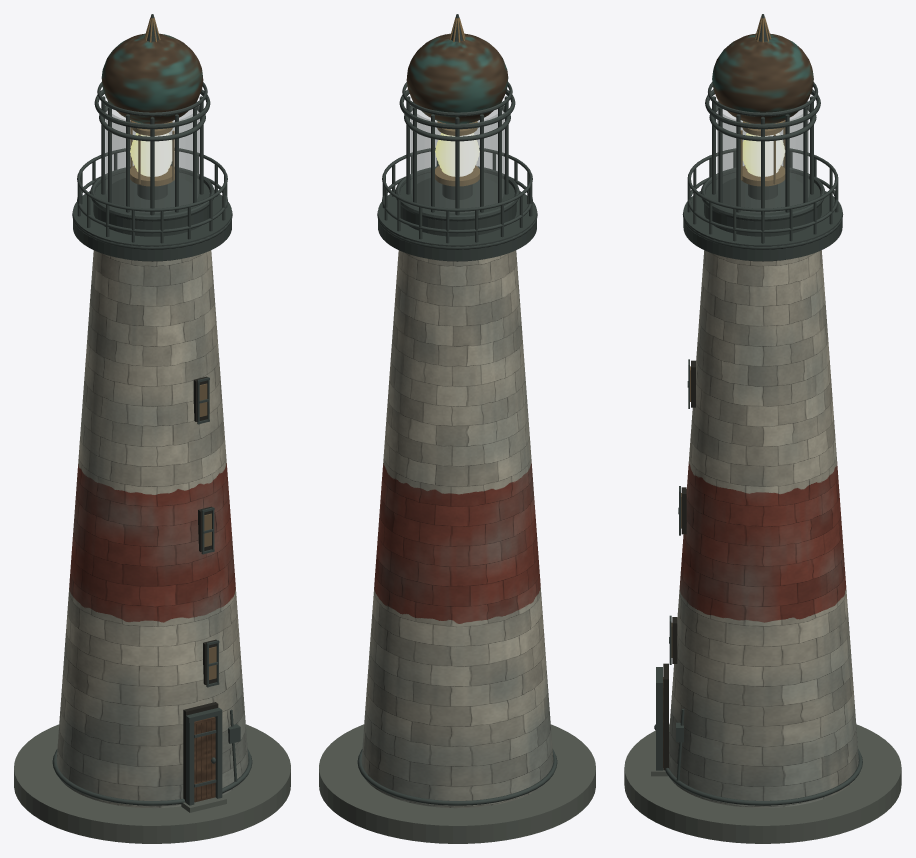
Rendered from lighthouse_v01.glb.
The picture shows the model from 3 angles, left to right: view 1: azimuth 30°, elevation 25°; view 2: azimuth 150°, elevation 25°; view 3: azimuth 270°, elevation 25°; orthographic projection.
Visible parts, largest first — view 1: LH_Tower, LH_Trim, LH_Base, LH_Roof, LH_Entry, LH_Glass, LH_Lens; view 2: LH_Tower, LH_Trim, LH_Base, LH_Roof, LH_Glass, LH_Lens; view 3: LH_Tower, LH_Trim, LH_Base, LH_Roof, LH_Glass, LH_Entry, LH_Lens.
Part boxes in pixels (x1=…): LH_Tower: x1=56, y1=250, x2=248, y2=808; LH_Trim: x1=52, y1=14, x2=252, y2=805; LH_Base: x1=14, y1=724, x2=290, y2=843; LH_Roof: x1=101, y1=17, x2=203, y2=123; LH_Entry: x1=183, y1=376, x2=240, y2=805; LH_Glass: x1=106, y1=100, x2=198, y2=212; LH_Lens: x1=130, y1=133, x2=174, y2=176; LH_Tower: x1=361, y1=250, x2=553, y2=808; LH_Trim: x1=357, y1=14, x2=557, y2=805; LH_Base: x1=319, y1=724, x2=595, y2=843; LH_Roof: x1=406, y1=17, x2=508, y2=123; LH_Glass: x1=411, y1=100, x2=503, y2=212; LH_Lens: x1=435, y1=133, x2=479, y2=176; LH_Tower: x1=669, y1=250, x2=858, y2=808; LH_Trim: x1=665, y1=14, x2=862, y2=805; LH_Base: x1=624, y1=724, x2=901, y2=843; LH_Roof: x1=712, y1=17, x2=813, y2=124; LH_Glass: x1=716, y1=100, x2=809, y2=212; LH_Entry: x1=654, y1=359, x2=695, y2=780; LH_Lens: x1=742, y1=133, x2=785, y2=176.
Bounding box in the file's own units: 4.21 × 12.91 × 4.21.
10 materials, 3 textured.
